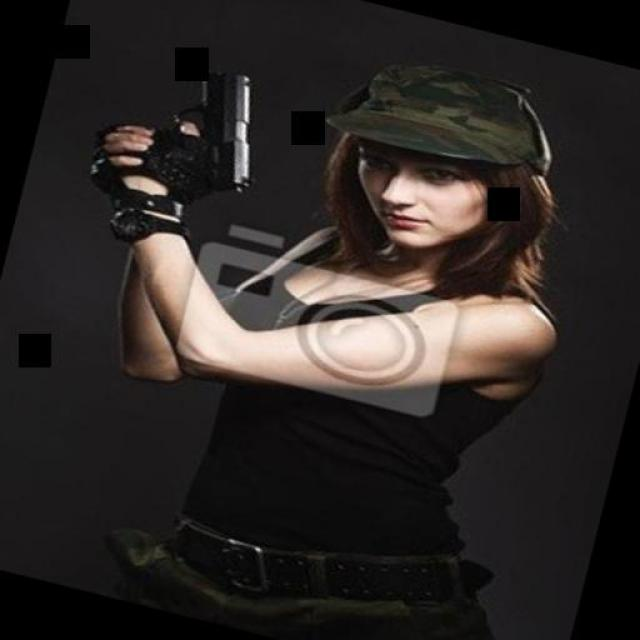gun: (122, 46, 284, 209)
